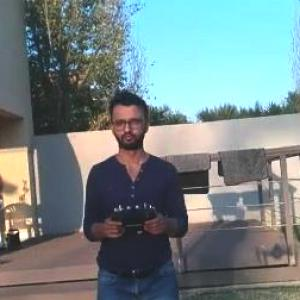follow: (77, 82, 193, 299)
